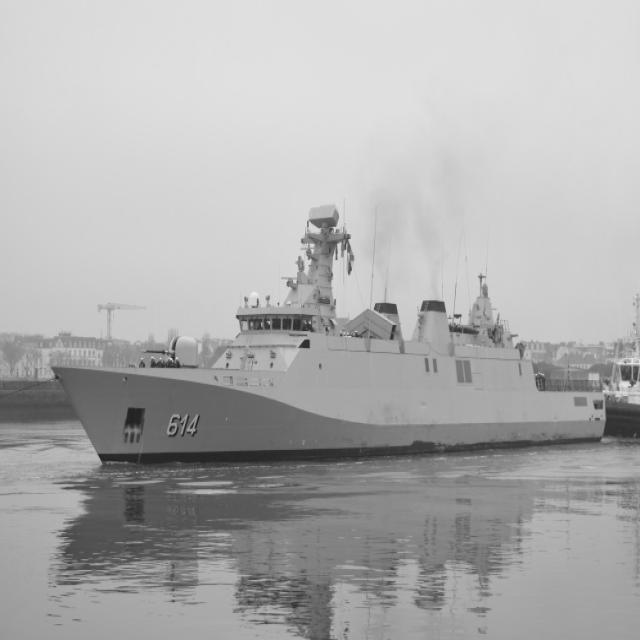Fragata: (50, 199, 609, 475)
